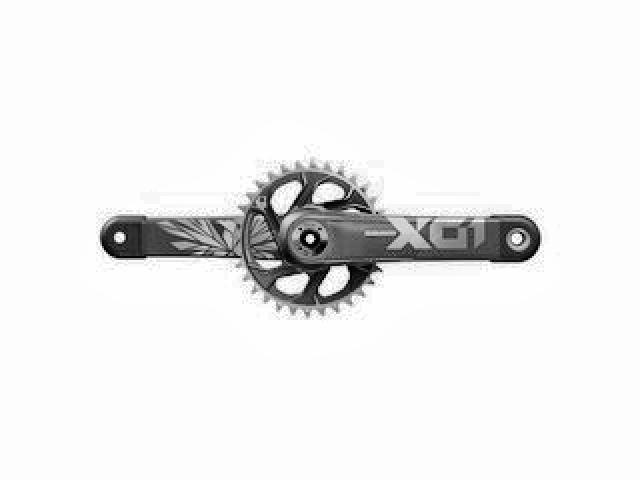cranks_set: (229, 158, 542, 321)
